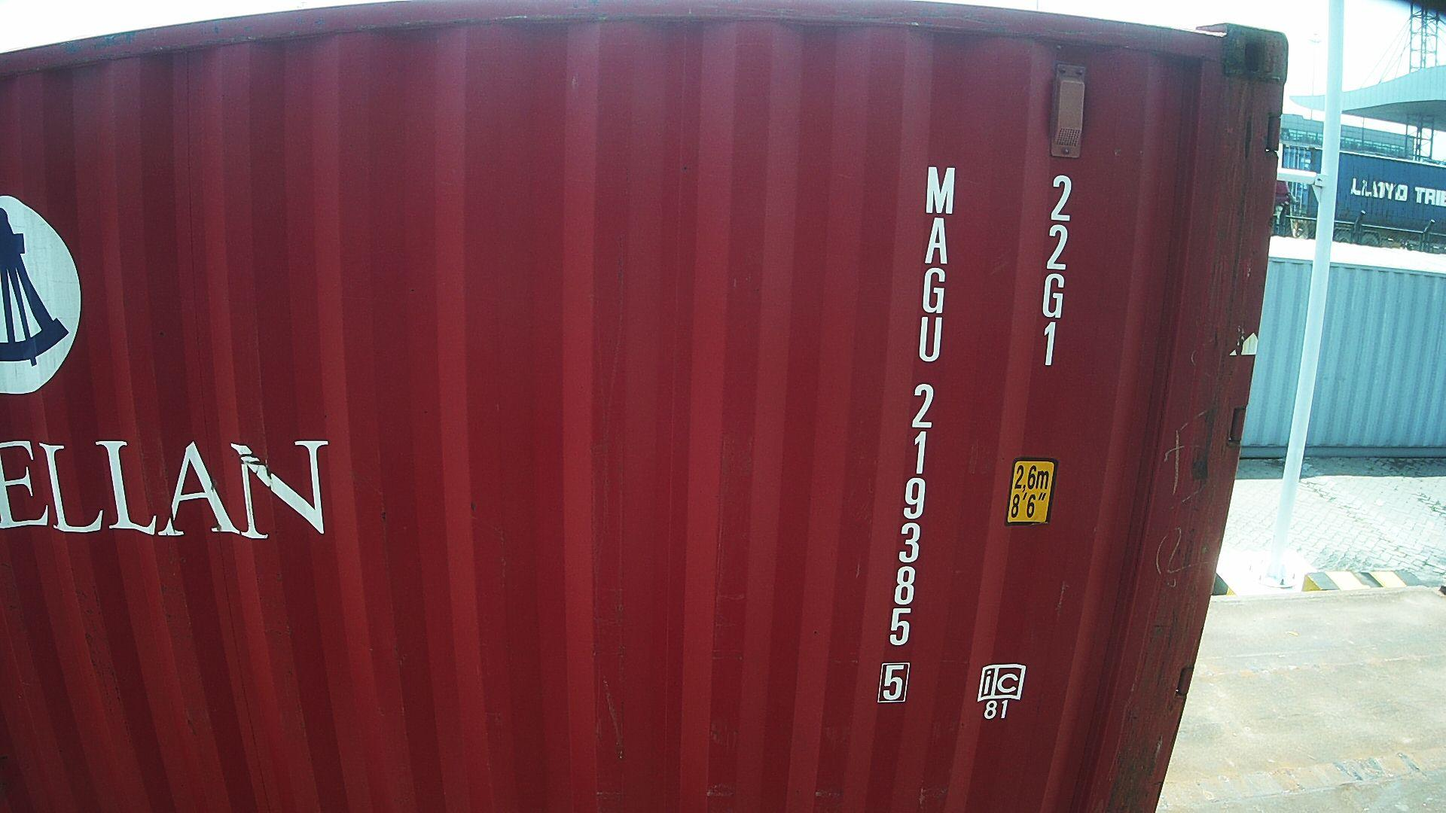container-numbers: (874, 159, 959, 711), (1033, 169, 1078, 371)
